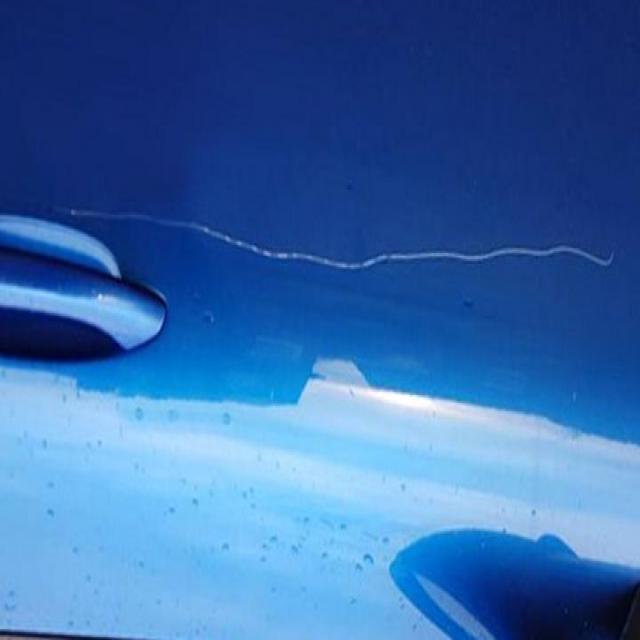scratch: (63, 158, 616, 300)
